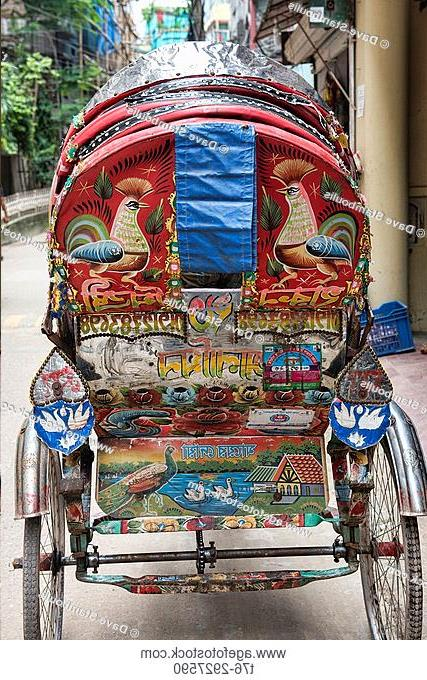Rickshaw: (19, 45, 412, 637)
